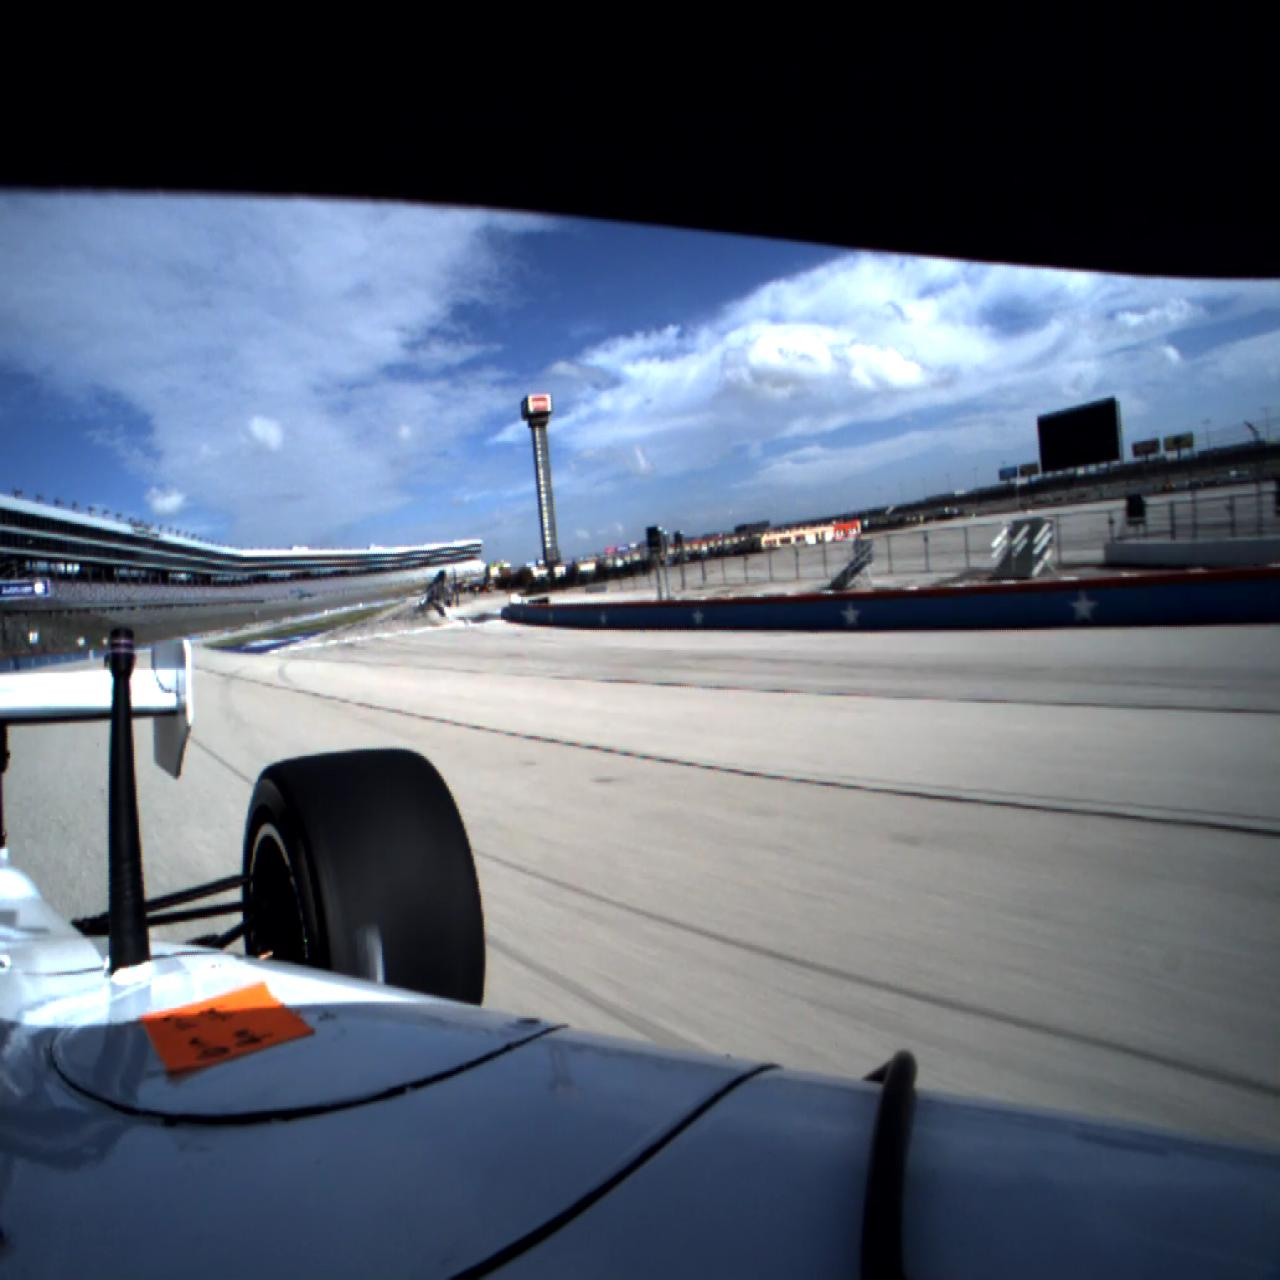Wheel: (241, 749, 486, 1008)
